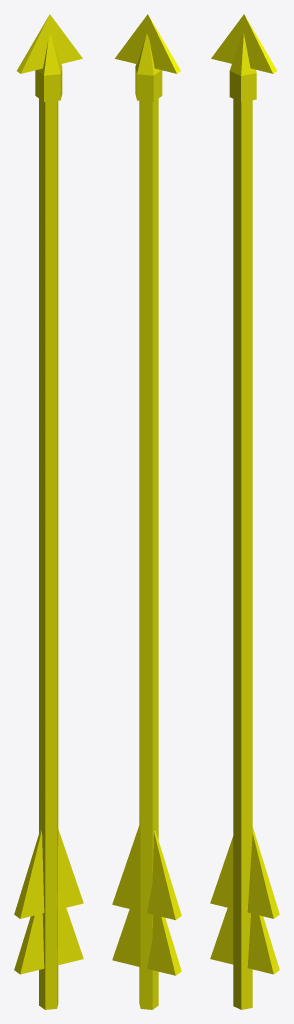
File: _arrow_b_20.glb
The picture shows the model from 3 angles, left to right: view 1: azimuth 30°, elevation 25°; view 2: azimuth 150°, elevation 25°; view 3: azimuth 330°, elevation 25°; orthographic projection.
Parts seen in each view (by area): view 1: arrow_b_20; view 2: arrow_b_20; view 3: arrow_b_20.
Boxes of the visible parts, <box> form: arrow_b_20: <box>14,14,83,1009</box>; arrow_b_20: <box>112,14,181,1009</box>; arrow_b_20: <box>210,14,279,1009</box>.
Size of the model in its own units: 0.0379 by 0.5647 by 0.0143.
1 material, 1 textured.
